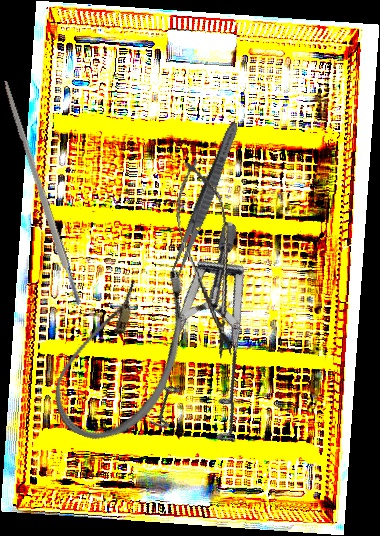Cannula: (42, 244, 206, 458)
Dressing Forceps: (167, 119, 243, 282)
Micro Scissor: (165, 153, 253, 363)
Scalpel Handle: (0, 79, 83, 307)
Speculum: (90, 219, 344, 474)
